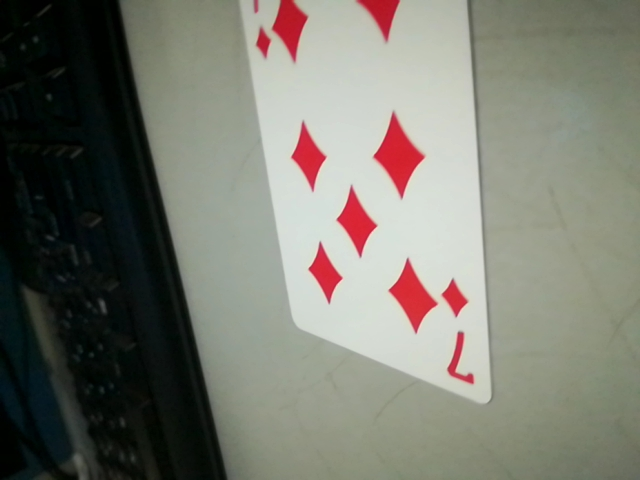fk 7: (432, 269, 481, 396)
